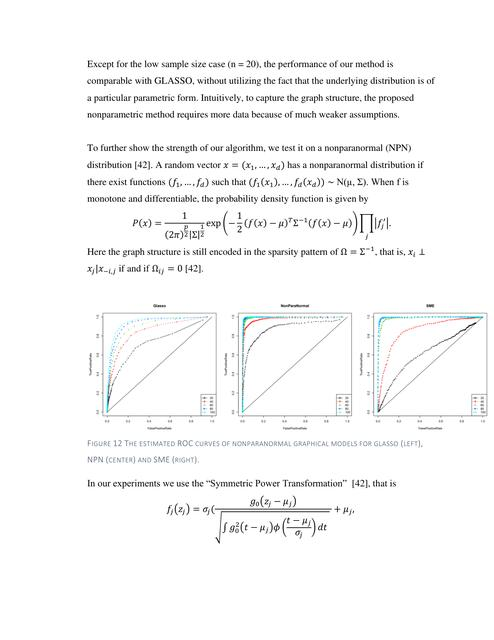box: (85, 302, 219, 432), (223, 303, 353, 432), (360, 304, 490, 432)
